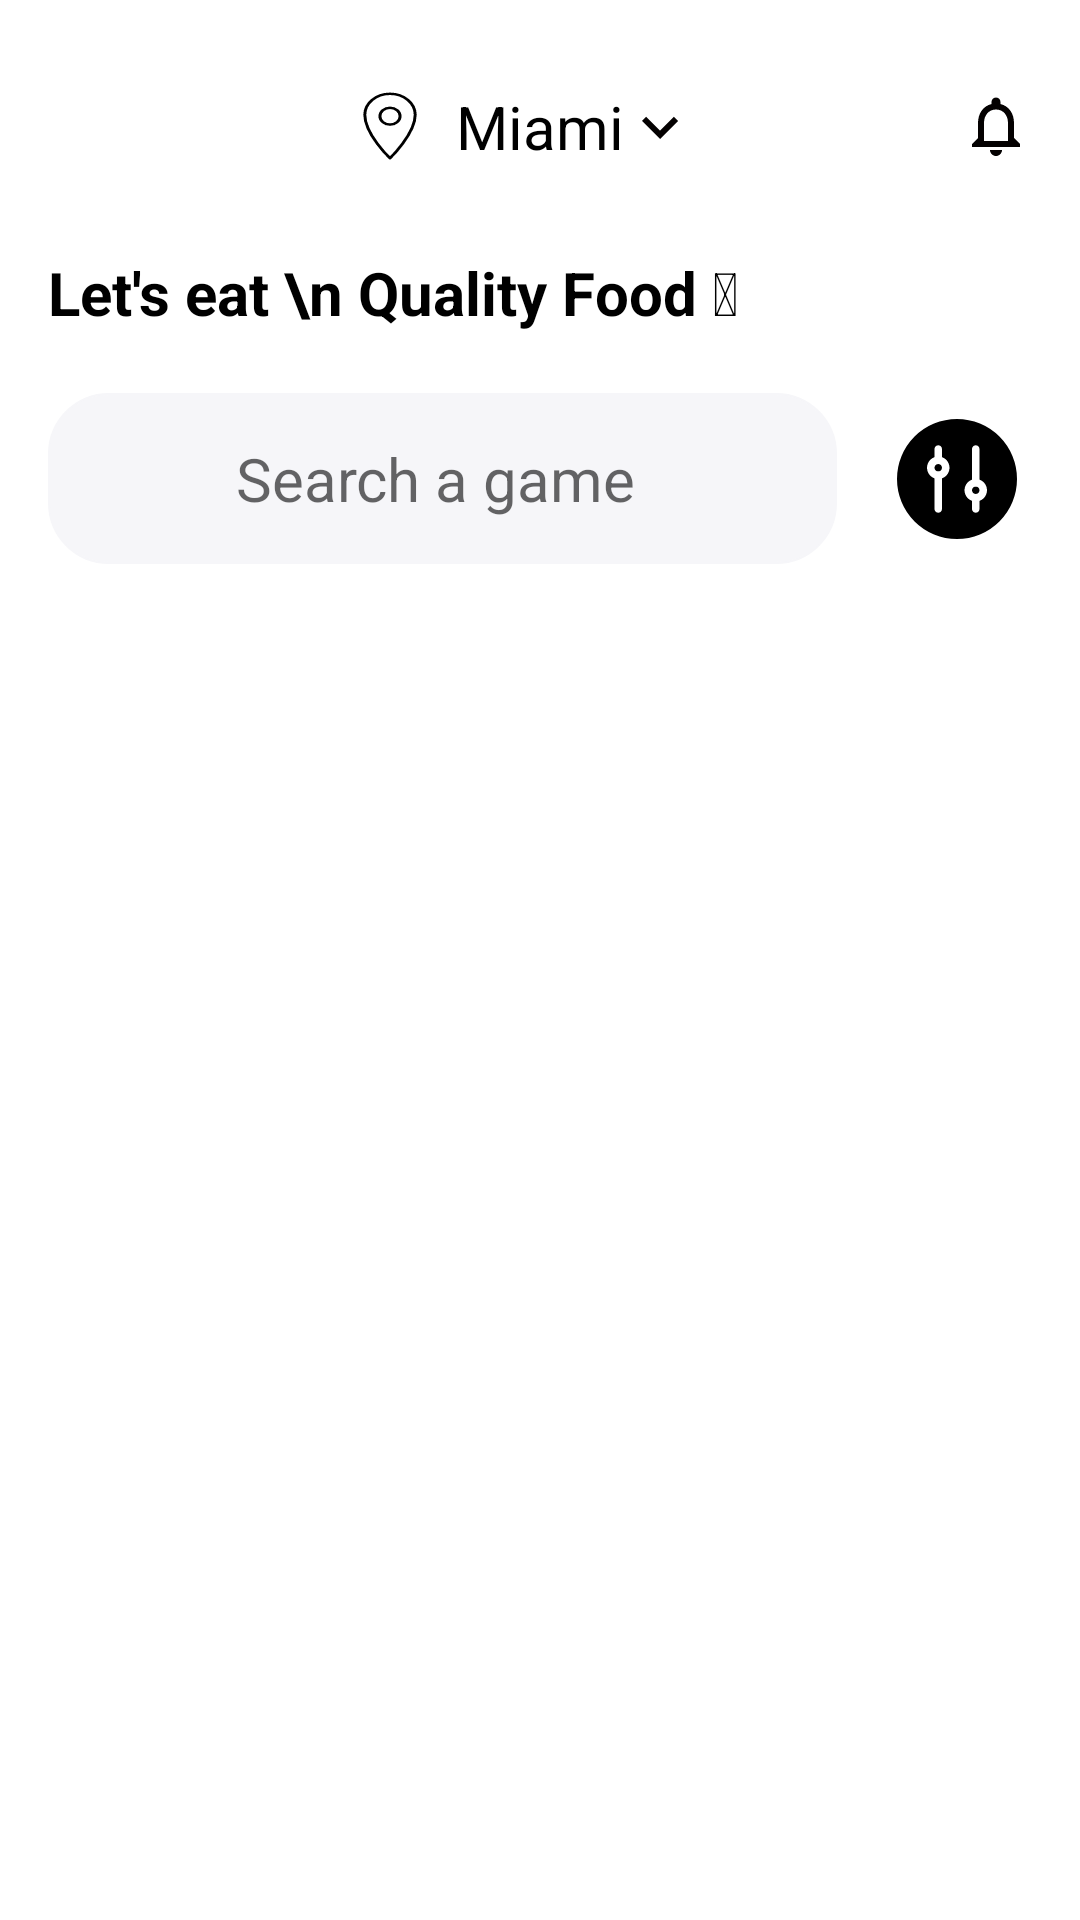

Where to tap for icons on this 1080px x 1920px app screen, as (x,y):
filter: (957,479)
keyboard arrow down: (660,128)
location: (390,126)
notifications none: (996,126)
